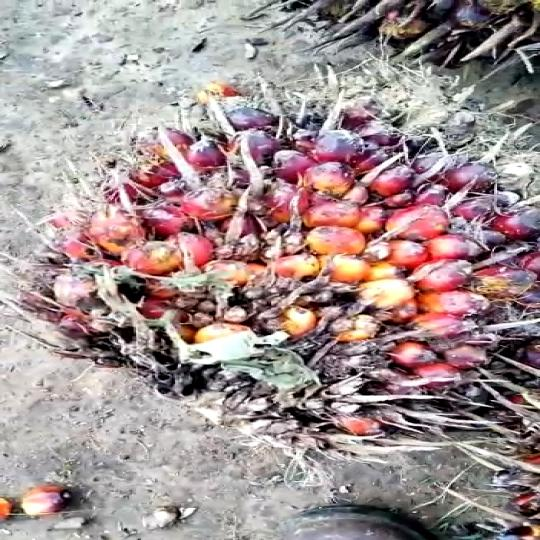masak: (41, 70, 540, 463)
